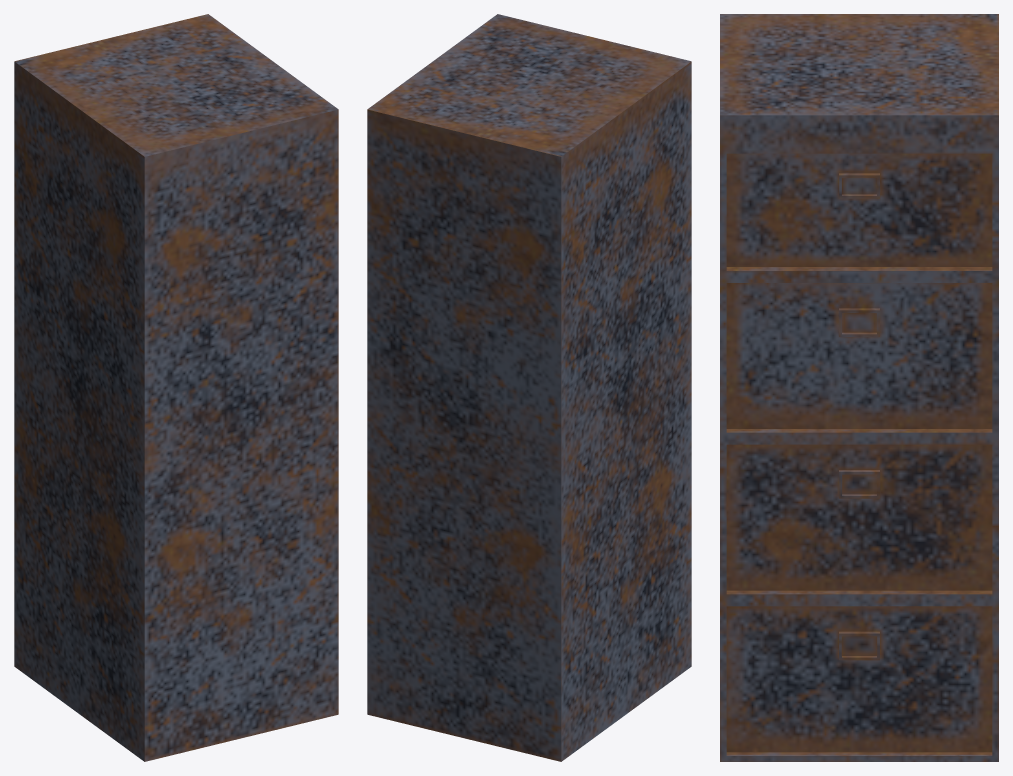
Rendered from file_cabinet.glb.
3 renders of one model, left to right at view 1: azimuth 30°, elevation 25°; view 2: azimuth 150°, elevation 25°; view 3: azimuth 270°, elevation 25°, orthographic. The views are drawn at different scales.
Parts seen in each view (by area): view 1: cabinet_base_low; view 2: cabinet_base_low; view 3: cabinet_base_low, cabinet_3_low, cabinet_4_low, cabinet_2_low, cabinet_1_low.
Part boxes in pixels (x1,y1,x2,y2): cabinet_base_low: (14,14,338,761); cabinet_base_low: (367,14,691,761); cabinet_base_low: (720,14,998,761); cabinet_3_low: (726,444,992,590); cabinet_4_low: (726,606,992,752); cabinet_2_low: (726,283,992,428); cabinet_1_low: (726,153,992,266).
Bounding box in the file's own units: 0.4108 × 1.22 × 0.4783.
1 material, 1 textured.
